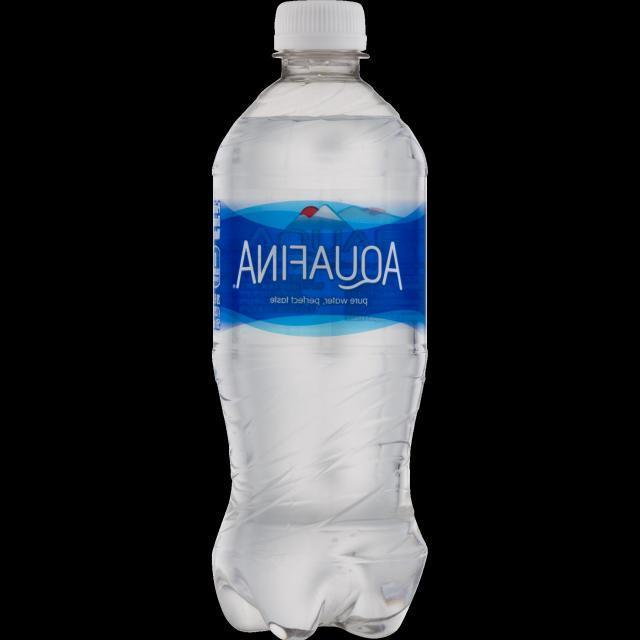plastic_bottle: (212, 0, 427, 640)
